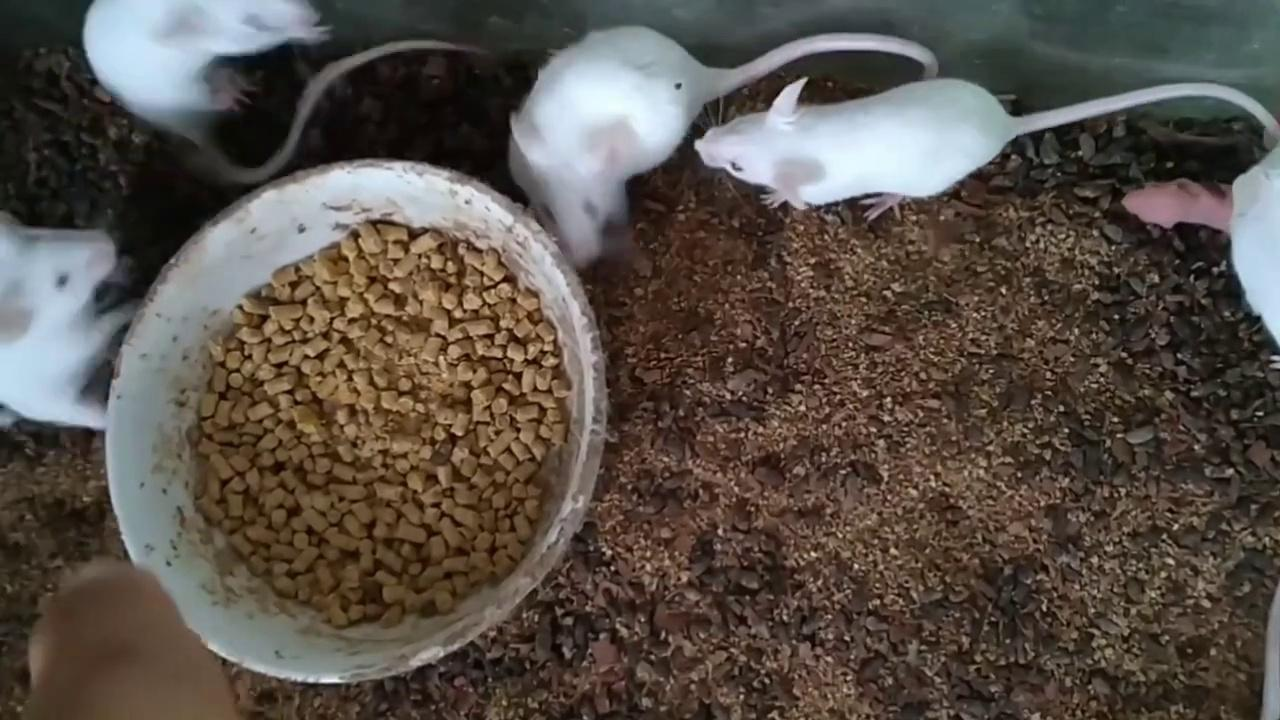rat: (508, 28, 936, 268), (696, 77, 1280, 221), (82, 0, 476, 183), (0, 209, 145, 431)
